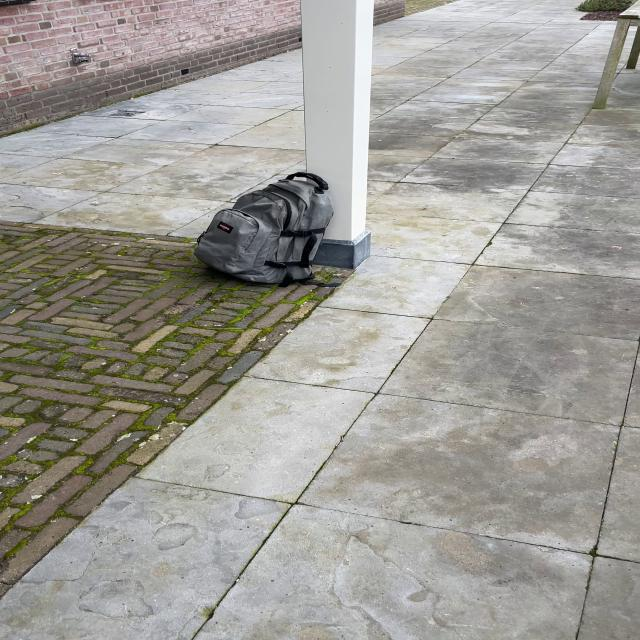backpack: (185, 169, 342, 289)
